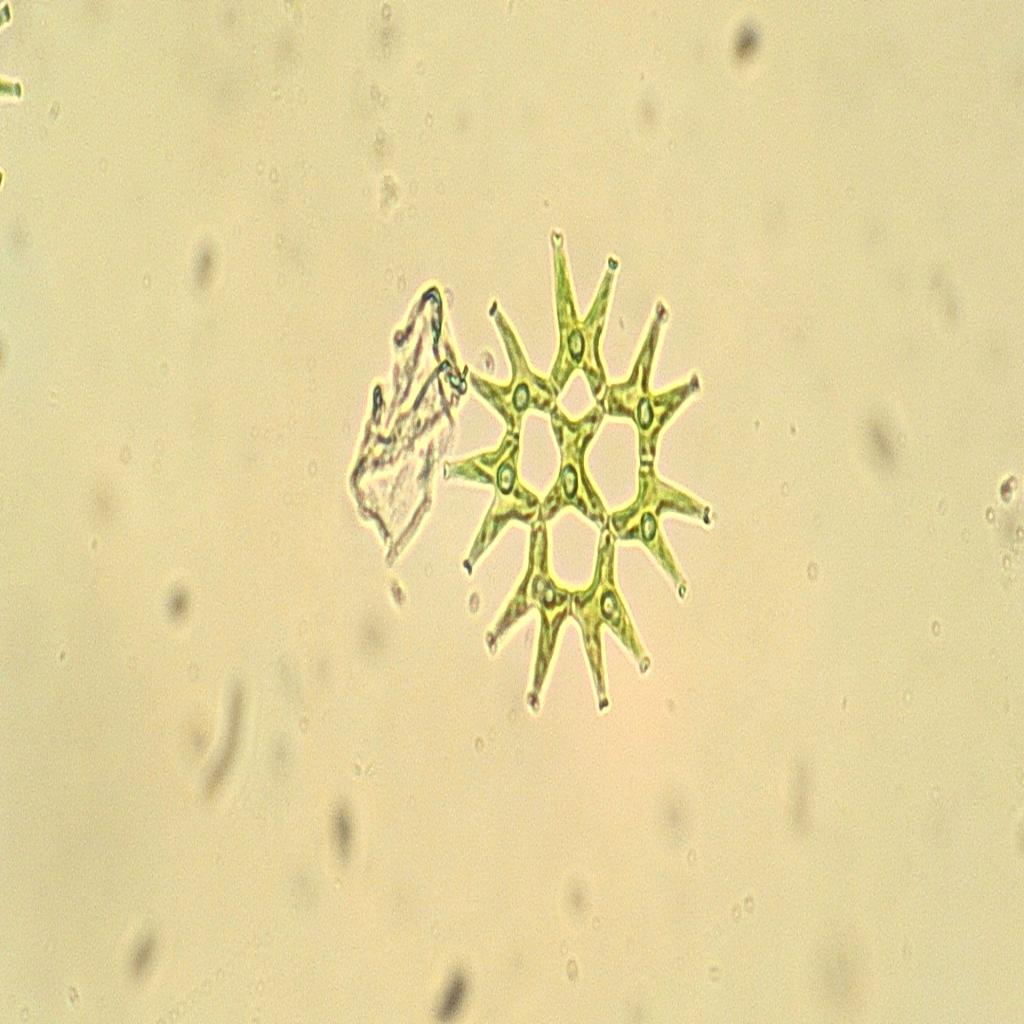Pediastrum_75T: (433, 226, 722, 737)
